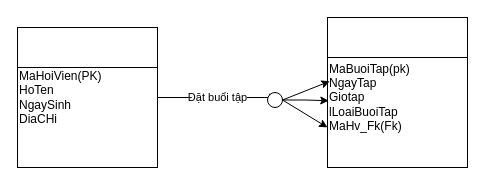
Some shapes in this 485 by 185 pixel diagram are drawn without their labels. Each missing label, with the centre of its shape:
"Buoi_tap" goes at point (397, 37).
"Hoi vien" goes at point (87, 47).
